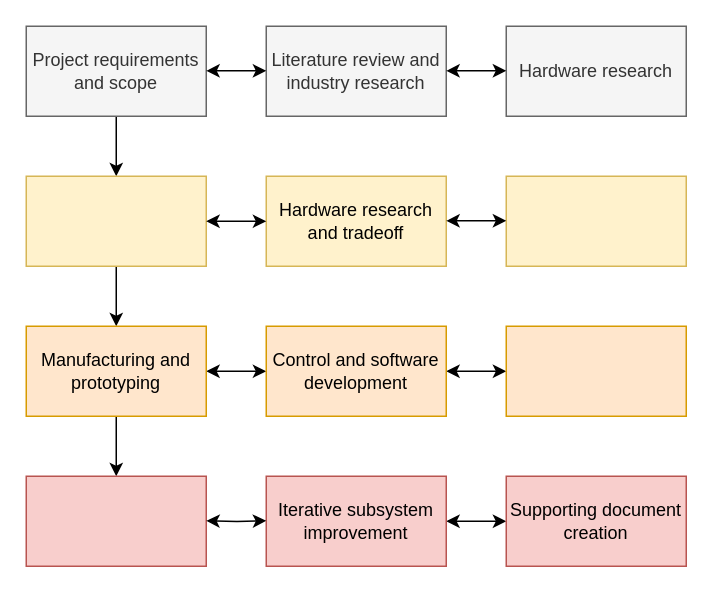
Some shapes in this 713 by 593 pixel diagram are drawn without their labels. Each missing label, with the centre of its shape:
"Bill of materials (BOM)" belongs at point (595, 220).
"Design c onceptualisation" belongs at point (115, 220).
"Full system assembly, integration and evaluation" belongs at point (115, 520).
"Subsystem validation and evaluation" belongs at point (595, 370).
